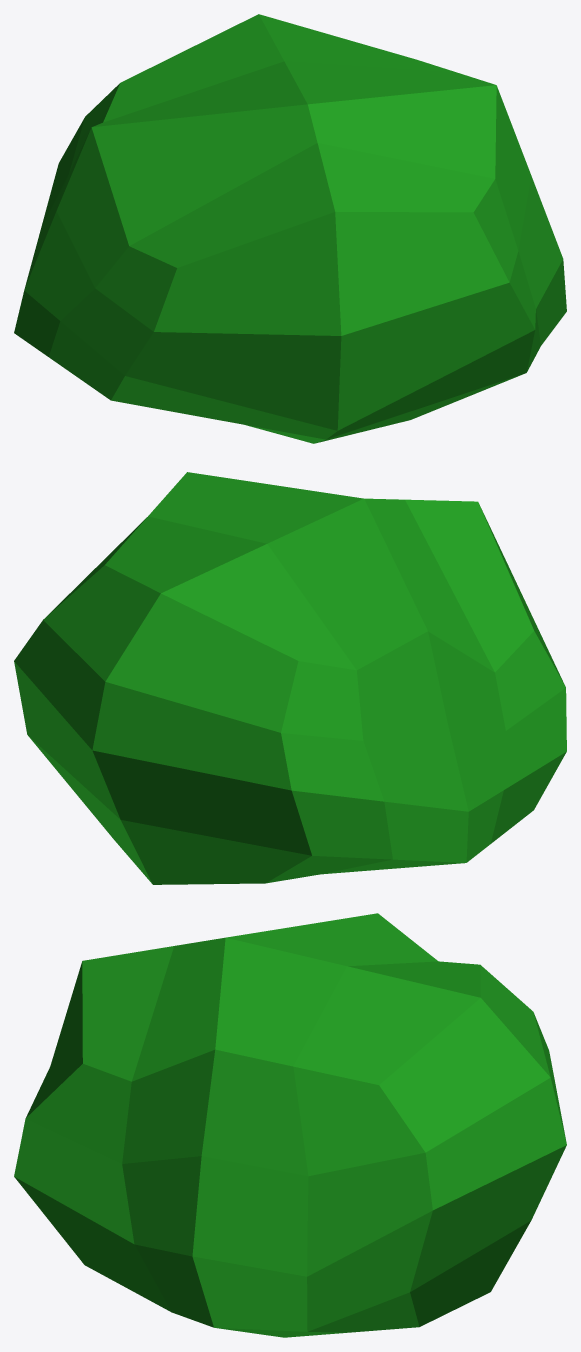
Rendered from bush-asset-1.glb.
3 renders of one model, top to bottom at view 1: azimuth 30°, elevation 25°; view 2: azimuth 150°, elevation 25°; view 3: azimuth 270°, elevation 25°, orthographic.
Visible parts, largest first — view 1: ruler_flower4; view 2: ruler_flower4; view 3: ruler_flower4.
Boxes of the visible parts, box(x1,y1,x2,y2) form: ruler_flower4: box(14, 14, 566, 443); ruler_flower4: box(14, 472, 566, 884); ruler_flower4: box(14, 913, 566, 1337).
Bounding box in the file's own units: 275 × 189 × 290.
